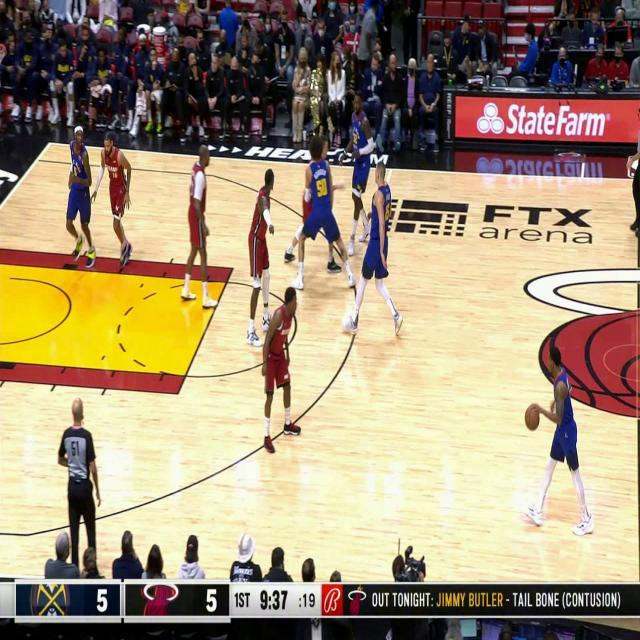rim: (524, 406, 540, 430)
